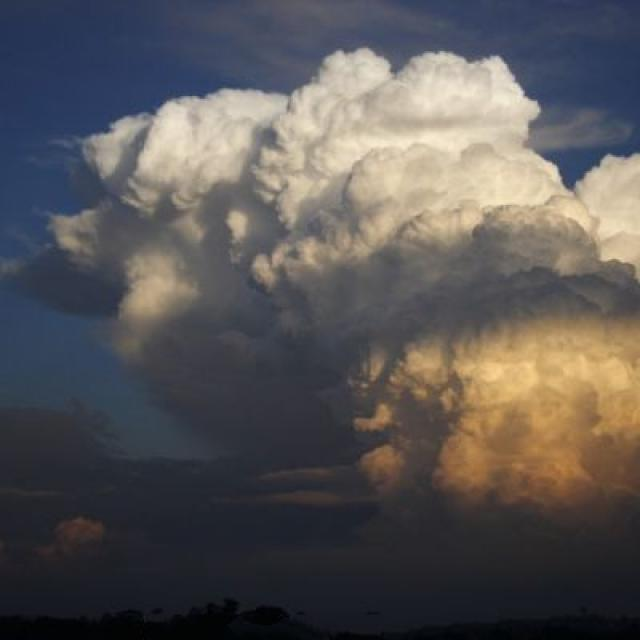Cb: (26, 41, 640, 521)
